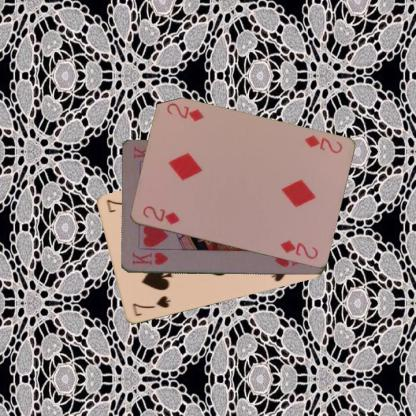2d: (140, 203, 181, 227), (302, 132, 343, 155)
7s: (130, 293, 172, 318)
Kh: (130, 250, 170, 267)
